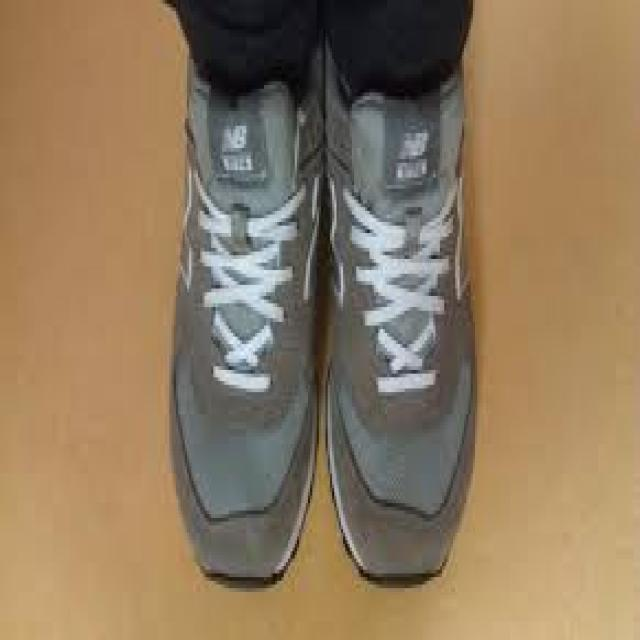shoe: (169, 37, 325, 585), (323, 33, 477, 581)
